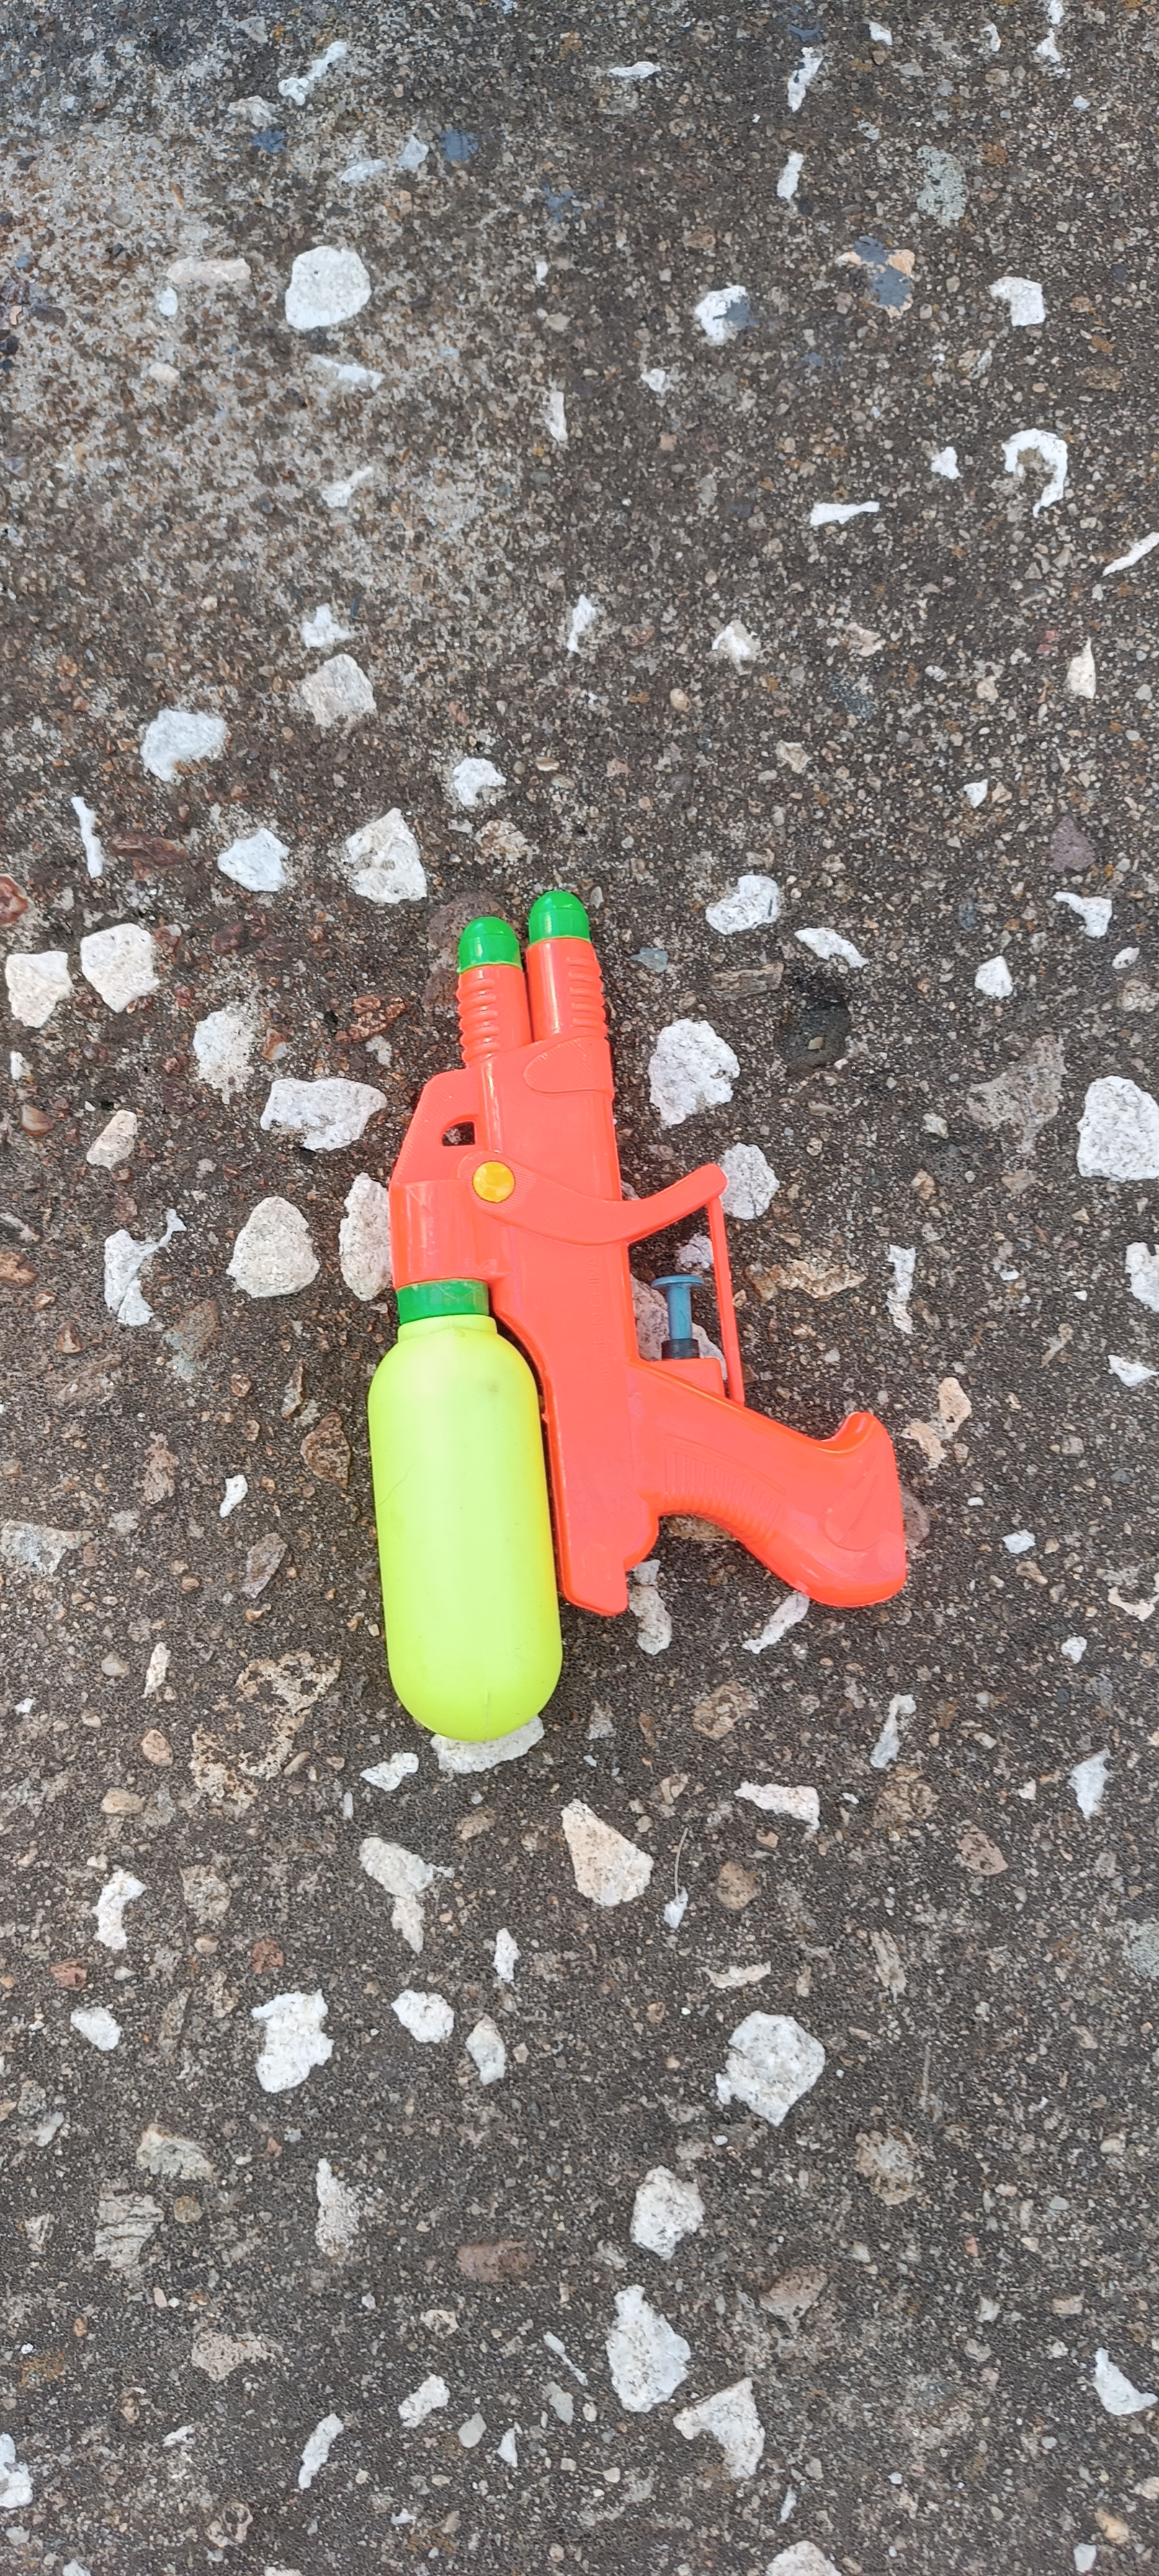Water Gun: (366, 887, 913, 1740)
